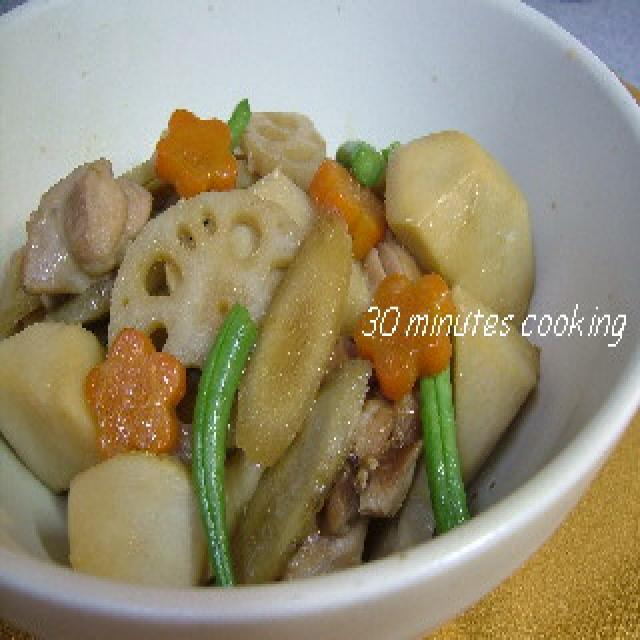鸡肉料理 含炸鸡: (0, 0, 352, 640)
